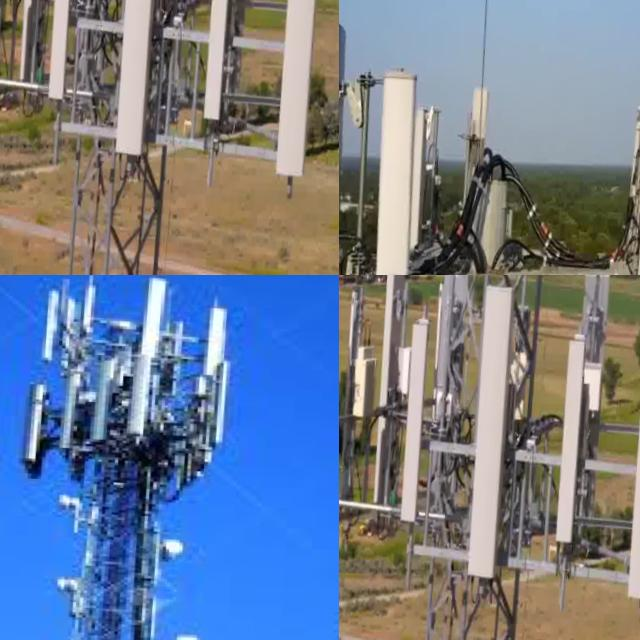GSM Antenna: (339, 54, 450, 275), (462, 275, 536, 592), (270, 0, 339, 183), (109, 0, 183, 168), (367, 275, 421, 505), (397, 307, 447, 534), (398, 82, 456, 275), (557, 326, 601, 553), (339, 5, 374, 275), (339, 280, 378, 500), (609, 21, 640, 275), (203, 0, 248, 129), (608, 94, 640, 275), (623, 281, 640, 607), (43, 0, 93, 109), (21, 369, 73, 468), (14, 0, 68, 81), (27, 277, 76, 365), (468, 77, 499, 208), (134, 275, 182, 354), (132, 346, 165, 434), (196, 292, 238, 361), (89, 354, 120, 447), (0, 0, 28, 87)
Microwave Antenna: (46, 489, 101, 529), (60, 571, 99, 614), (159, 524, 203, 562), (167, 618, 216, 640)
